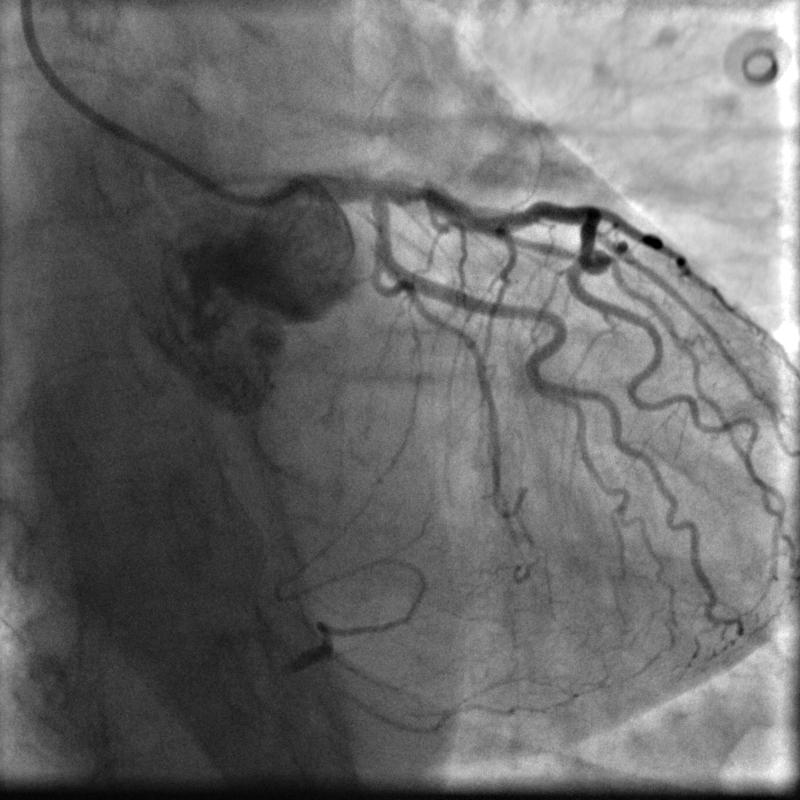Stenosis: (394, 175, 435, 208)
